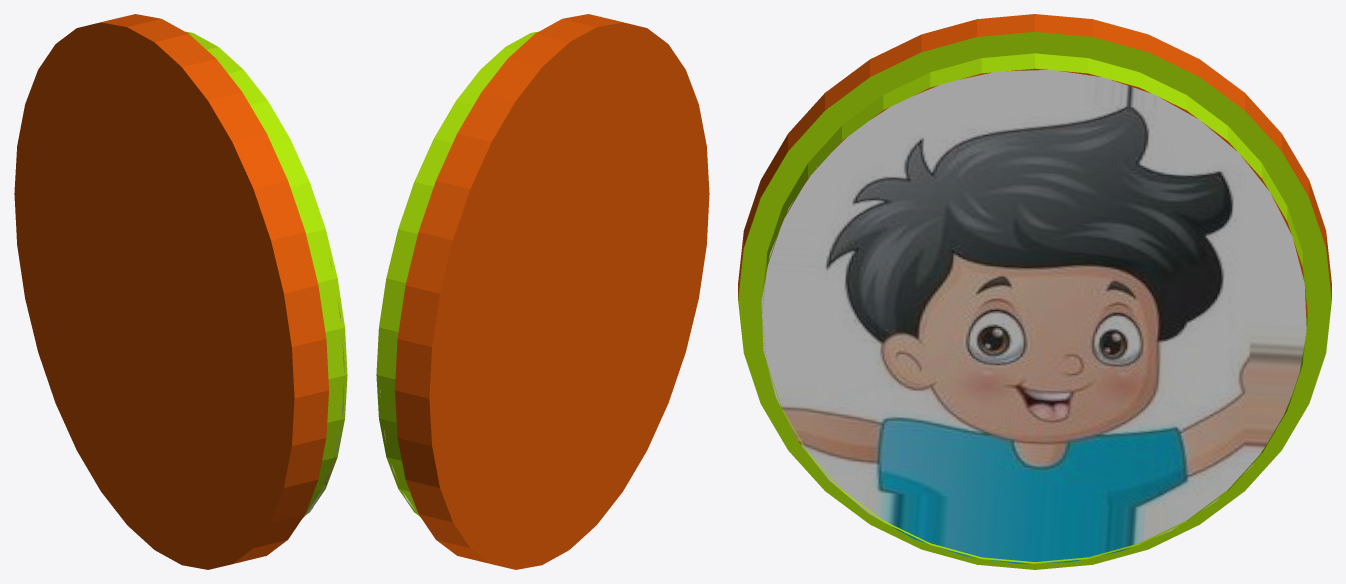
The model's file is boy 1.gltf.
3 renders of one model, left to right at view 1: azimuth 30°, elevation 25°; view 2: azimuth 150°, elevation 25°; view 3: azimuth 270°, elevation 25°, orthographic. The views are drawn at different scales.
Visible parts, largest first — view 1: Cylinder.006, Cylinder.002; view 2: Cylinder.006, Cylinder.002; view 3: Cylinder.025, Cylinder.002, Cylinder.006.
Part boxes in pixels (<box>): Cylinder.006: <box>14,14,328,569</box>; Cylinder.002: <box>185,31,347,514</box>; Cylinder.006: <box>395,14,709,569</box>; Cylinder.002: <box>376,31,538,516</box>; Cylinder.025: <box>761,70,1306,563</box>; Cylinder.002: <box>738,32,1331,569</box>; Cylinder.006: <box>738,14,1331,317</box>.
Size of the model in its own units: 0.8839 by 6.68 by 6.68.
Materials: 3 (1 with a texture image).
